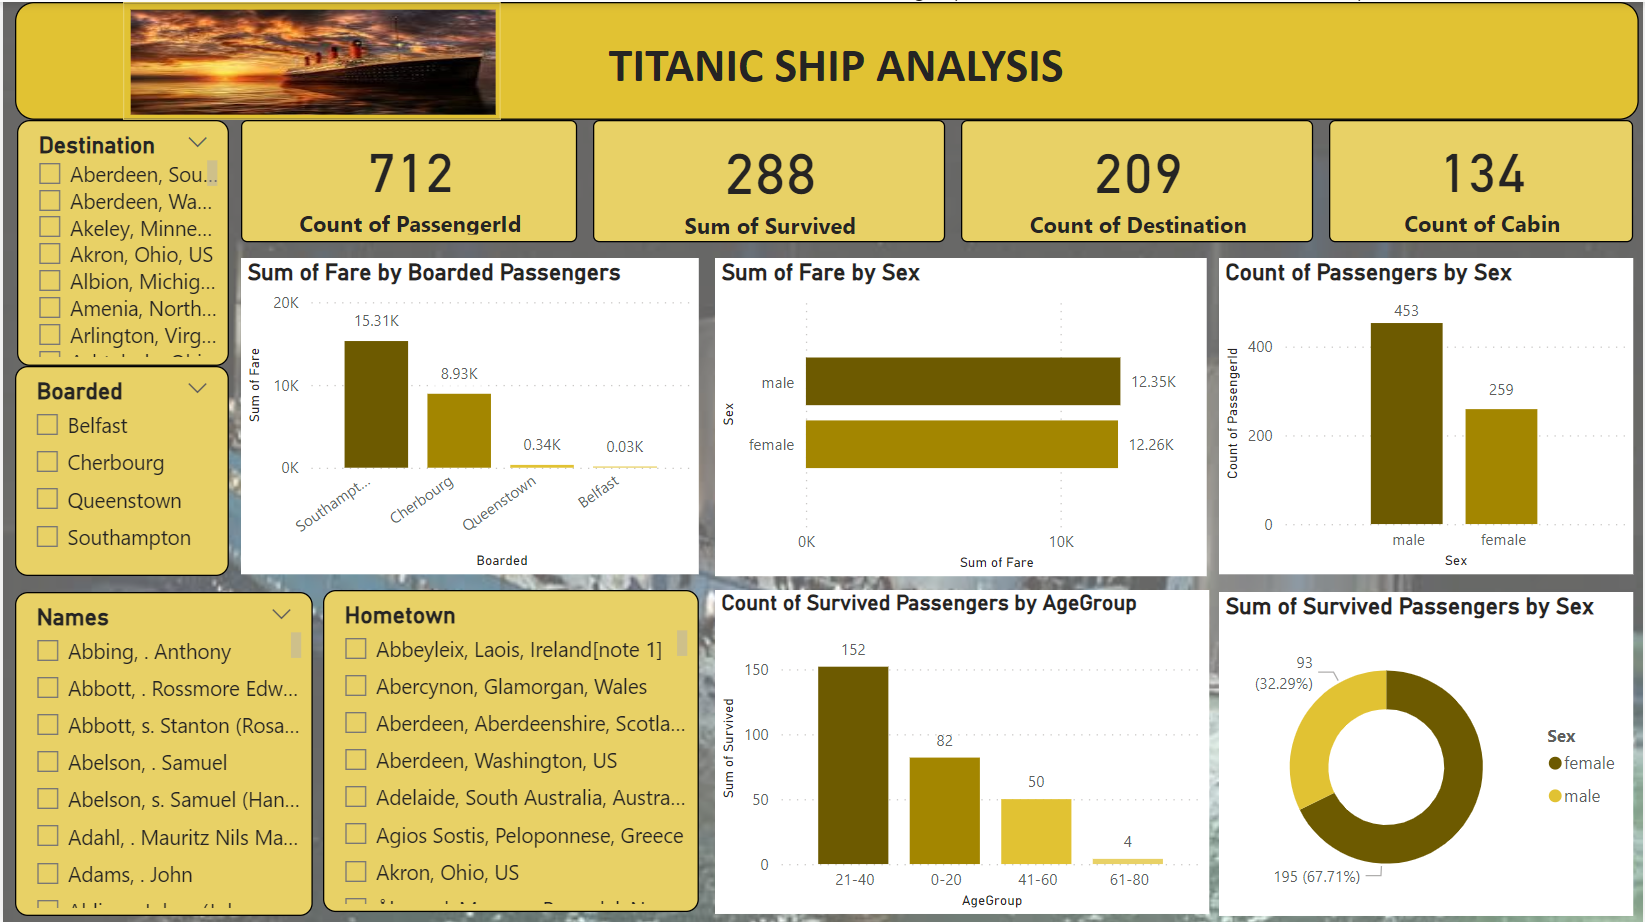

What the dashboard file says about the page in this screenshot:
{"tool":"powerbi","page":{"name":"Page 1","canvas":[1280,720],"ordinal":0},"visuals":[{"type":"lineStackedColumnComboChart","title":"Sum of Fare by Boarded Passengers","fields":{"Category":["fullll.Boarded"],"Y":["fullll.Fare"]},"box":[185.9,199.9,357.7,246.8],"z":0},{"type":"donutChart","title":"Sum of Survived Passengers by Sex","fields":{"Category":["fullll.Sex"],"Y":["fullll.Survived"]},"box":[949.6,460.7,323.3,253],"z":1000},{"type":"card","fields":{"Values":["fullll.PassengerId"]},"box":[185.9,92.1,262.4,95.3],"z":2000},{"type":"barChart","fields":{"Category":["fullll.Sex"],"Y":["fullll.Fare"]},"box":[556,199.9,384.2,248.3],"z":3000},{"type":"lineStackedColumnComboChart","title":"Count of Passengers by Sex","fields":{"Category":["fullll.Sex"],"Y":["fullll.PassengerId"]},"box":[949.6,199.9,323.3,246.8],"z":4000},{"type":"textbox","box":[9.4,0,1268.2,92.1],"z":5000},{"type":"card","fields":{"Values":["fullll.Survived"]},"box":[460.7,92.1,274.9,95.3],"z":6000},{"type":"card","fields":{"Values":["fullll.Destination"]},"box":[748.1,92.1,274.9,95.3],"z":7000},{"type":"card","fields":{"Values":["fullll.Cabin"]},"box":[1035.5,92.1,237.4,95.3],"z":8000},{"type":"slicer","fields":{"Values":["fullll.Destination"]},"box":[10.9,92.1,165.6,192.1],"z":9000},{"type":"slicer","fields":{"Values":["fullll.Boarded"]},"box":[9.4,284.3,167.1,164],"z":10000},{"type":"clusteredColumnChart","title":"Count of Survived Passengers by AgeGroup","fields":{"Category":["fullll.AgeGroup"],"Y":["fullll.Survived"]},"box":[556,459.2,385.8,253],"z":11000},{"type":"slicer","fields":{"Values":["fullll.CleanedName"]},"box":[9.4,460.7,232.7,253],"z":12000},{"type":"slicer","fields":{"Values":["fullll.Hometown"]},"box":[249.9,459.2,293.6,251.5],"z":13000},{"type":"image","box":[93.7,0,295.2,92.1],"z":14000}]}

Visuals, with their boxes in screenshot pixels (x1, y1, x2, y2), scaled from the page's 1280x720 canvas onto the 1645x922 screenshot:
"Sum of Fare by Boarded Passengers" lineStackedColumnComboChart: detection(239, 256, 699, 572)
"Sum of Survived Passengers by Sex" donutChart: detection(1220, 590, 1636, 914)
card - fullll.PassengerId: detection(239, 118, 576, 240)
barChart - fullll.Sex x fullll.Fare: detection(715, 256, 1208, 574)
"Count of Passengers by Sex" lineStackedColumnComboChart: detection(1220, 256, 1636, 572)
textbox: detection(12, 0, 1642, 118)
card - fullll.Survived: detection(592, 118, 945, 240)
card - fullll.Destination: detection(961, 118, 1315, 240)
card - fullll.Cabin: detection(1331, 118, 1636, 240)
slicer - fullll.Destination: detection(14, 118, 227, 364)
slicer - fullll.Boarded: detection(12, 364, 227, 574)
"Count of Survived Passengers by AgeGroup" clusteredColumnChart: detection(715, 588, 1210, 912)
slicer - fullll.CleanedName: detection(12, 590, 311, 914)
slicer - fullll.Hometown: detection(321, 588, 698, 910)
image: detection(120, 0, 500, 118)
